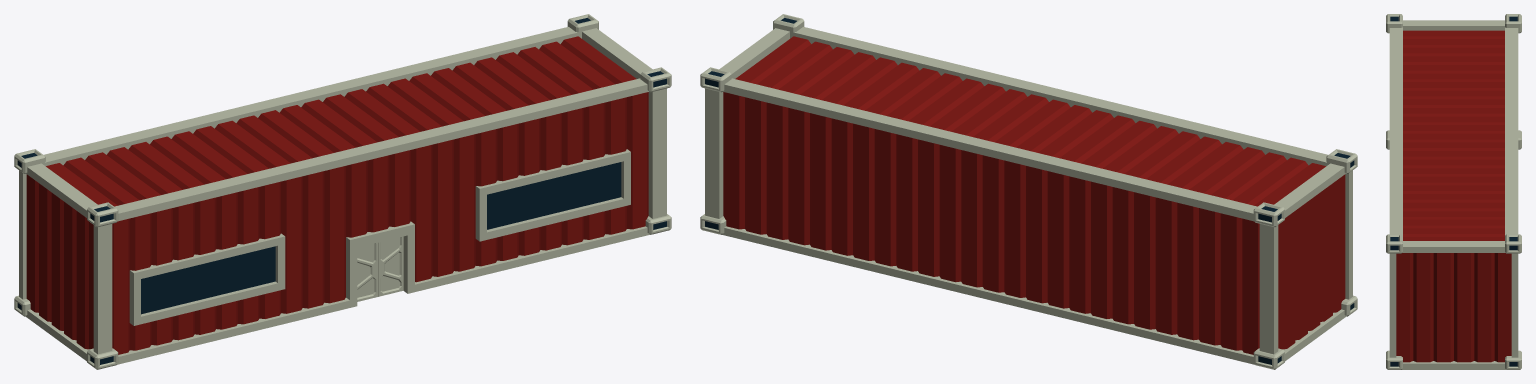
File: House 6.fbx
The picture shows the model from 3 angles, left to right: view 1: azimuth 30°, elevation 25°; view 2: azimuth 150°, elevation 25°; view 3: azimuth 270°, elevation 25°; orthographic projection. The views are drawn at different scales.
Visible parts, largest first — view 1: H6.001; view 2: H6.001; view 3: H6.001.
Part boxes in pixels (x1=…): H6.001: x1=14, y1=14, x2=671, y2=369; H6.001: x1=700, y1=14, x2=1357, y2=369; H6.001: x1=1386, y1=14, x2=1521, y2=369.
Size of the model in its own units: 2000 by 523 by 500.
